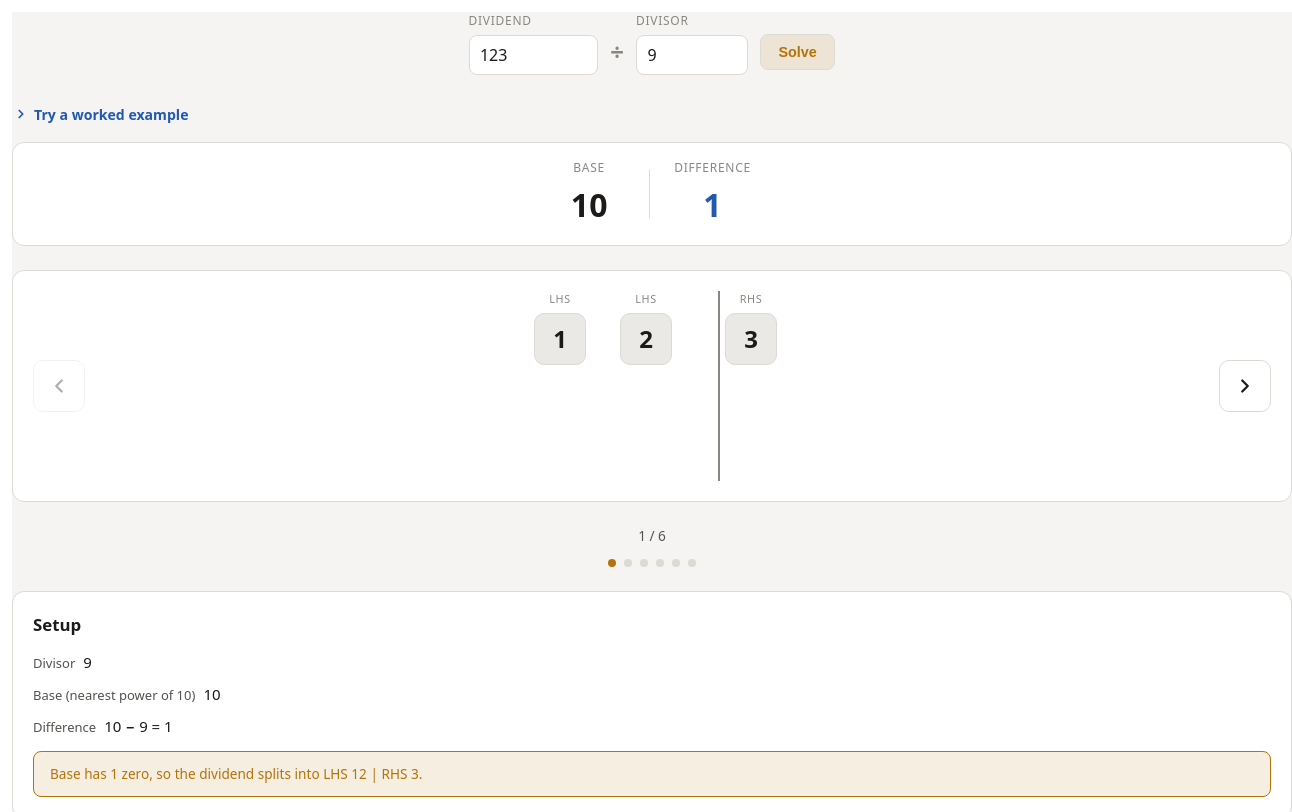
Test case: BaseMethodPage › Q1's multiply lands its contribution chips on the same row across every column it reaches
Click the button named "Next step".
click(1245, 386)  # box [1219,360,1271,412]
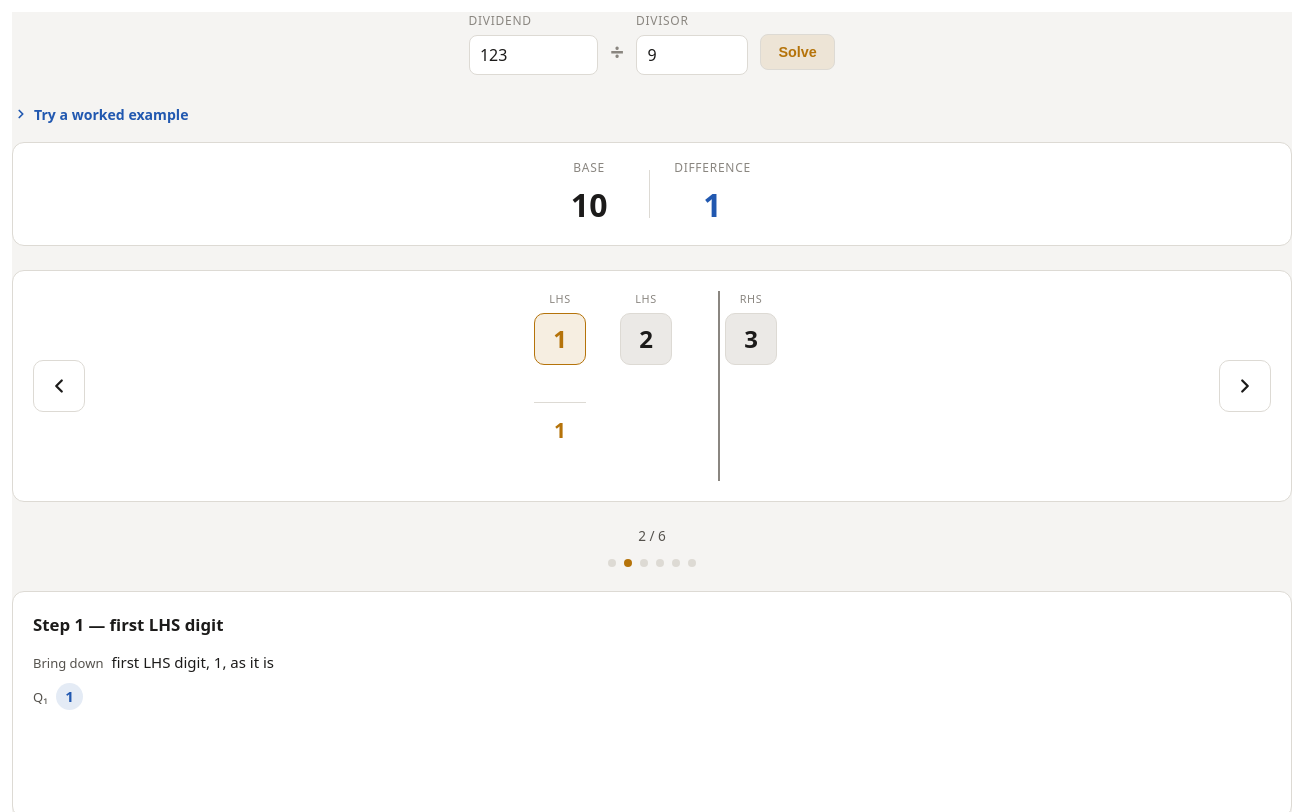
Click the button named "Next step".
click(1245, 386)  # box [1219,360,1271,412]
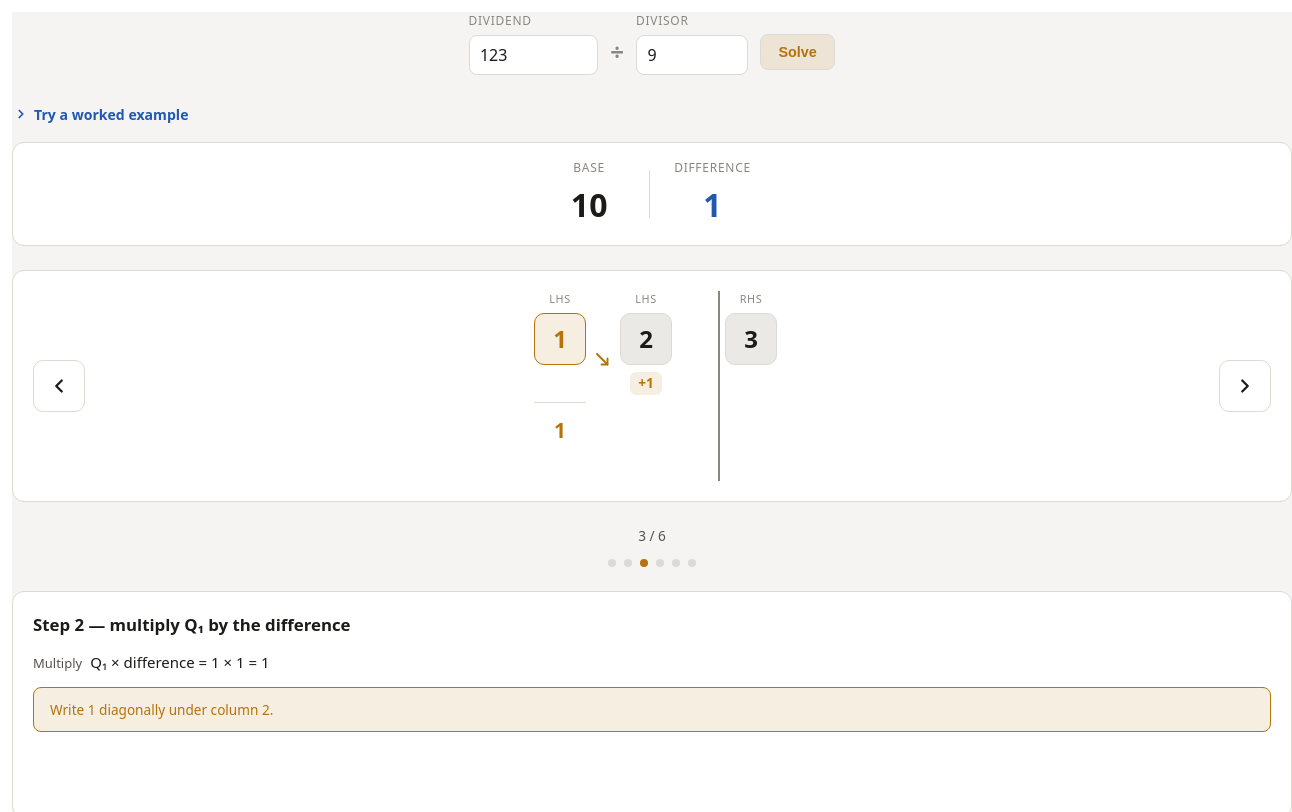
Result: the text "3 / 6" is shown at [638,526,666,545]
Result: the text with class "contribution-chip" reads "+1" at [638,373,654,392]
